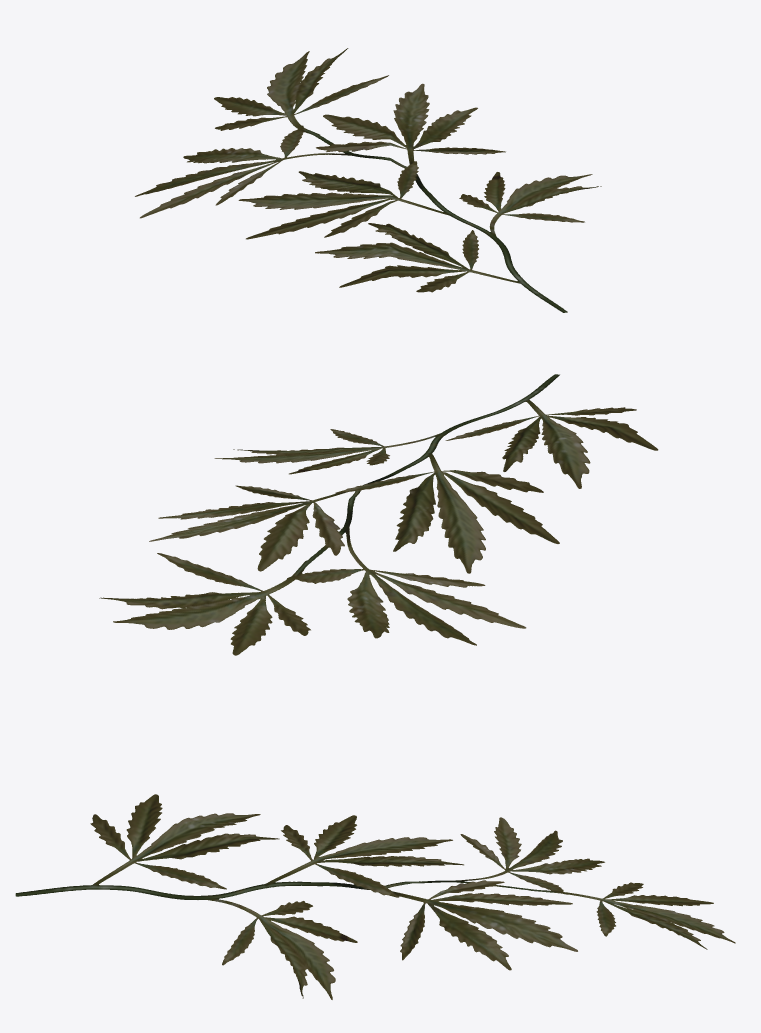
The model's file is TI_Bush_01_part_02.fbx.
3 views of the same model, one above another, from view 1: azimuth 30°, elevation 25°; view 2: azimuth 150°, elevation 25°; view 3: azimuth 270°, elevation 25° (orthographic). The views are drawn at different scales.
Visible parts, largest first — view 1: TI_Bush_01_part_02; view 2: TI_Bush_01_part_02; view 3: TI_Bush_01_part_02.
Boxes of the visible parts, x1,y1,x2,y2 form: TI_Bush_01_part_02: [135, 48, 601, 312]; TI_Bush_01_part_02: [99, 374, 658, 655]; TI_Bush_01_part_02: [15, 794, 735, 999].
Bounding box in the file's own units: 0.6689 × 0.1252 × 1.01.
